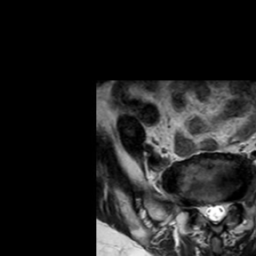CCS_normal: (209, 192, 219, 233)
LFS_stenosis: (227, 189, 235, 215)
LLS_normal: (219, 194, 227, 225)
RFS_severe_stenosis: (191, 194, 200, 220)
RLS_normal: (200, 193, 209, 227)
